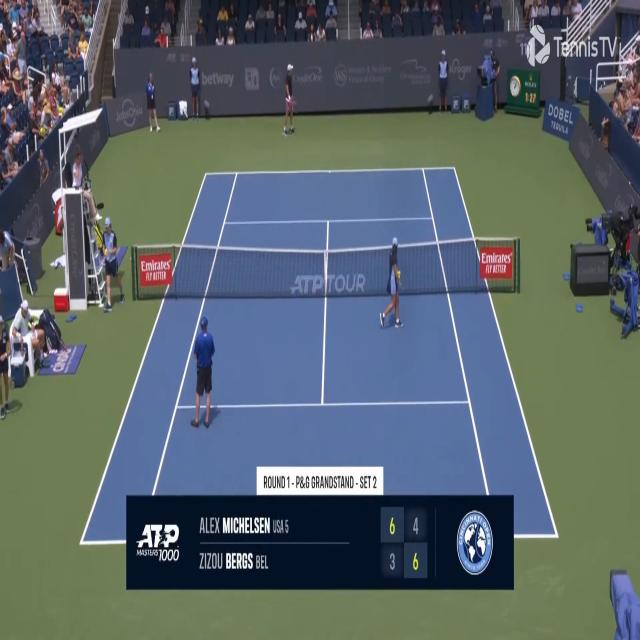tennis-player: (281, 62, 298, 139)
